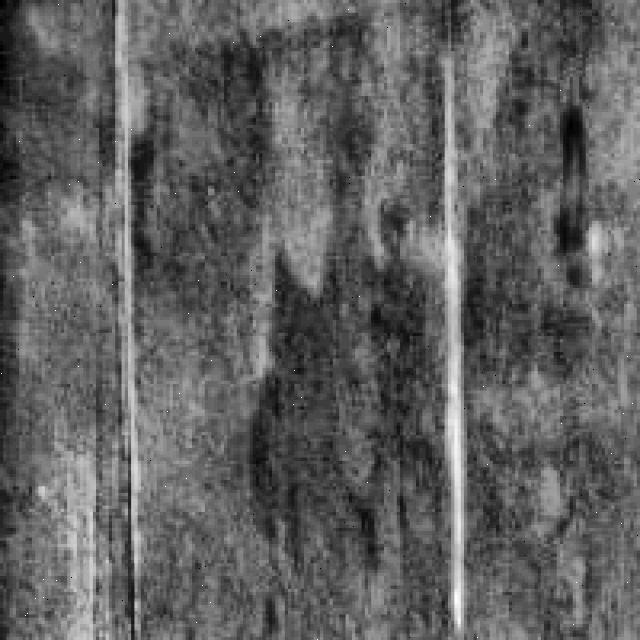Inclusion: (99, 0, 147, 563), (428, 90, 471, 624)
